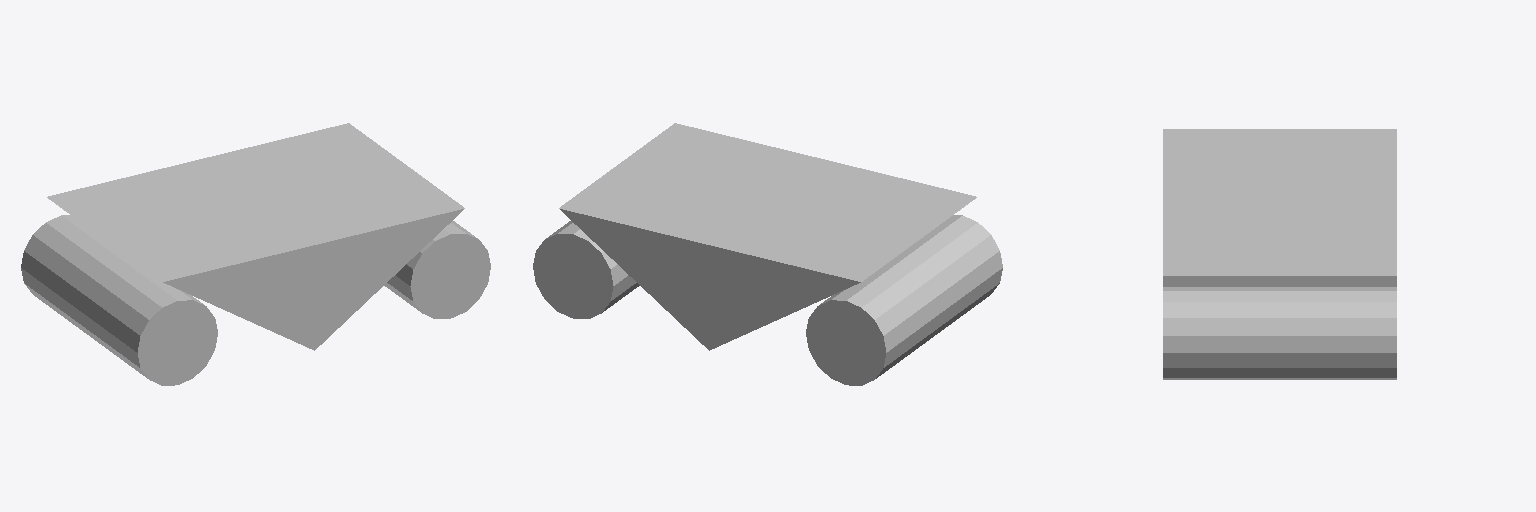
The picture shows the model from 3 angles: view 1: azimuth 30°, elevation 25°; view 2: azimuth 150°, elevation 25°; view 3: azimuth 270°, elevation 25°; orthographic projection.
Parts seen in each view (by area): view 1: pt_base; view 2: pt_base; view 3: pt_base.
Boxes of the visible parts, x1=… form: pt_base: x1=21, y1=123, x2=490, y2=385; pt_base: x1=533, y1=123, x2=1002, y2=385; pt_base: x1=1163, y1=129, x2=1396, y2=379.
Bounding box in the file's own units: 3.5 × 1.01 × 2.